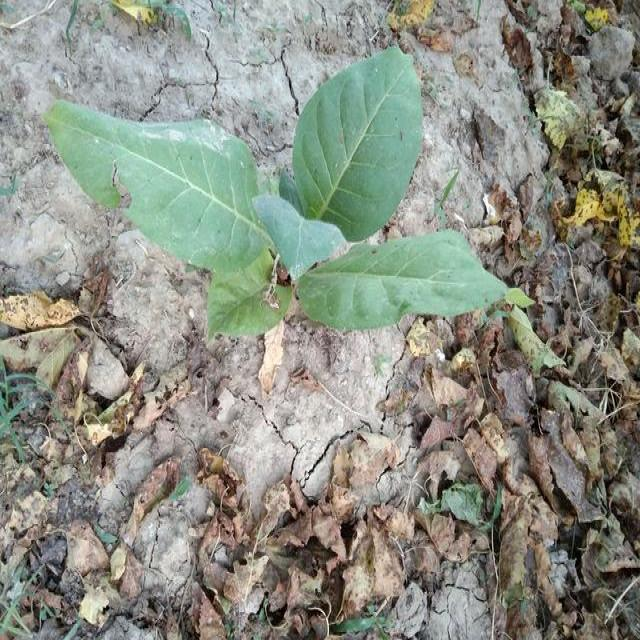crop: (36, 47, 542, 352)
